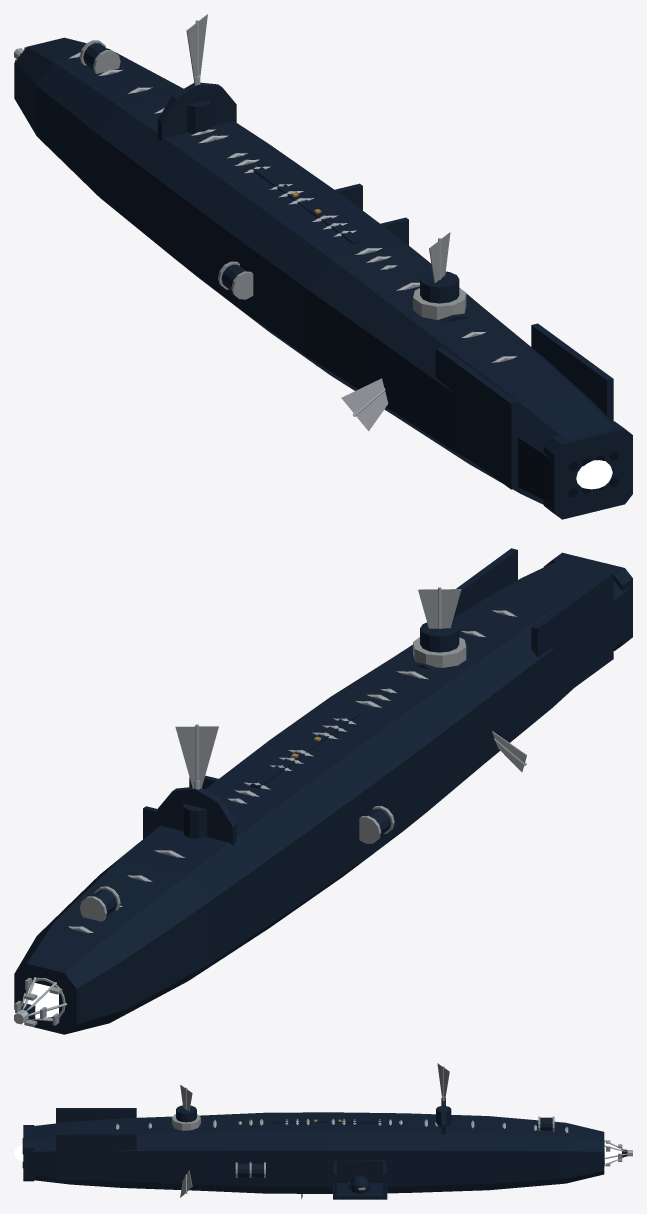
The picture shows the model from 3 angles, top to bottom: view 1: azimuth 30°, elevation 25°; view 2: azimuth 150°, elevation 25°; view 3: azimuth 270°, elevation 25°; orthographic projection. The views are drawn at different scales.
Parts seen in each view (by area): view 1: RIMWARD_HULL, RIMWARD_ENGINE_GLOW; view 2: RIMWARD_HULL; view 3: RIMWARD_HULL.
Boxes of the visible parts, left/top/right/bottom form: RIMWARD_HULL: left=14, top=14, right=632, bottom=519; RIMWARD_ENGINE_GLOW: left=576, top=460, right=612, bottom=489; RIMWARD_HULL: left=14, top=548, right=632, bottom=1034; RIMWARD_HULL: left=22, top=1063, right=632, bottom=1199.
Bounding box in the file's own units: 6.36 × 7.09 × 30.8.
